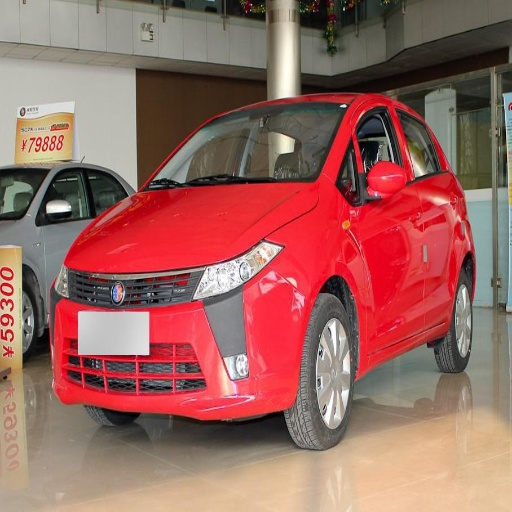front_bumper: (54, 265, 309, 420)
front_glass: (146, 104, 348, 189)
front_left_door: (350, 104, 426, 347)
